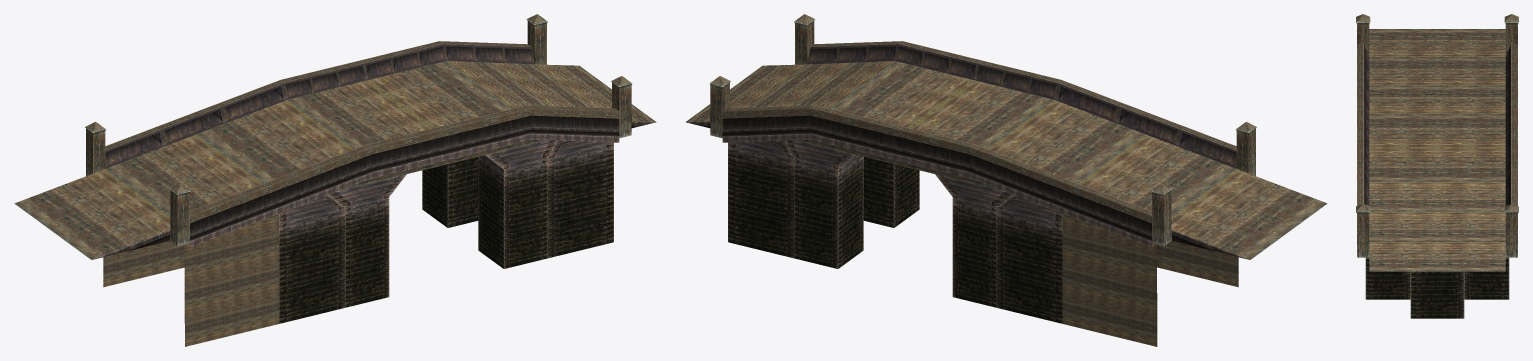
File: tn3_bridge2.glb
3 renders of one model, left to right at view 1: azimuth 30°, elevation 25°; view 2: azimuth 150°, elevation 25°; view 3: azimuth 270°, elevation 25°, orthographic. The views are drawn at different scales.
Parts seen in each view (by area): view 1: tn3_bridge2; view 2: tn3_bridge2; view 3: tn3_bridge2.
Boxes of the visible parts, x1,y1,x2,y2 form: tn3_bridge2: (14, 14, 656, 346); tn3_bridge2: (685, 14, 1327, 346); tn3_bridge2: (1356, 14, 1518, 318).
Bounding box in the file's own units: 21.14 × 5.93 × 6.
7 materials, 7 textured.
